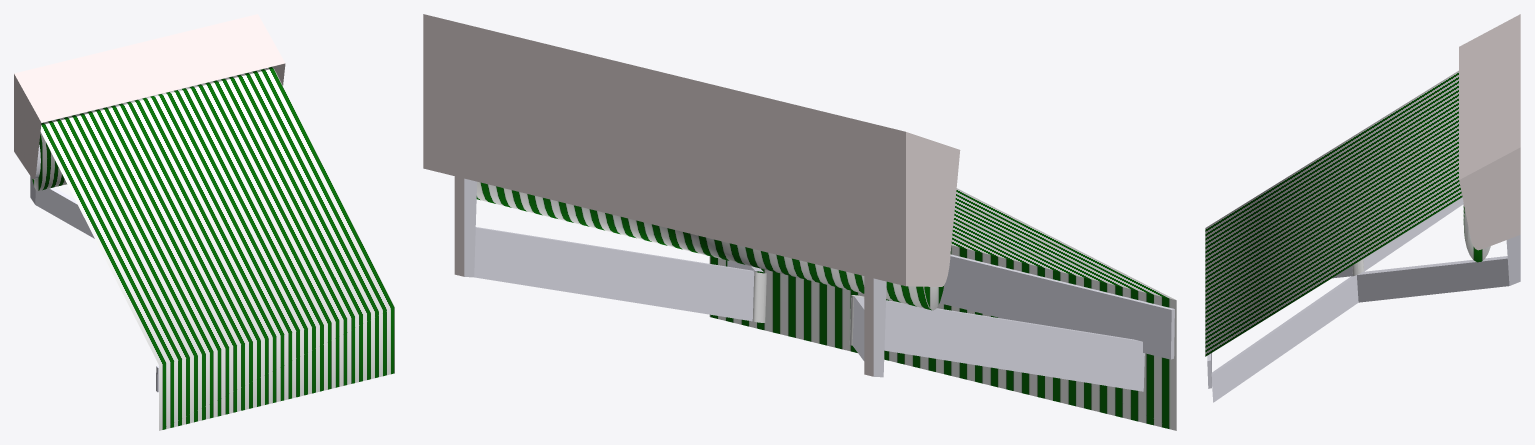
Rendered from sh-contrib-awning-bracket.glb.
The picture shows the model from 3 angles, left to right: view 1: azimuth 30°, elevation 25°; view 2: azimuth 150°, elevation 25°; view 3: azimuth 270°, elevation 25°; orthographic projection. The views are drawn at different scales.
Parts seen in each view (by area): view 1: 2_2, 10_10, 6_6; view 2: 10_10, 6_6, 2_2, 8_8; view 3: 2_2, 10_10, 6_6.
Boxes of the visible parts, x1,y1,x2,y2 form: 2_2: (32, 67, 394, 430); 10_10: (14, 14, 285, 179); 6_6: (30, 67, 268, 392); 10_10: (423, 14, 960, 376); 6_6: (464, 178, 1174, 391); 2_2: (476, 182, 1176, 430); 8_8: (752, 272, 863, 345); 2_2: (1205, 70, 1490, 356); 10_10: (1459, 14, 1520, 250); 6_6: (1207, 197, 1520, 402).
Size of the model in its own units: 1 by 1 by 1.
Materials: 4 (1 with a texture image).
